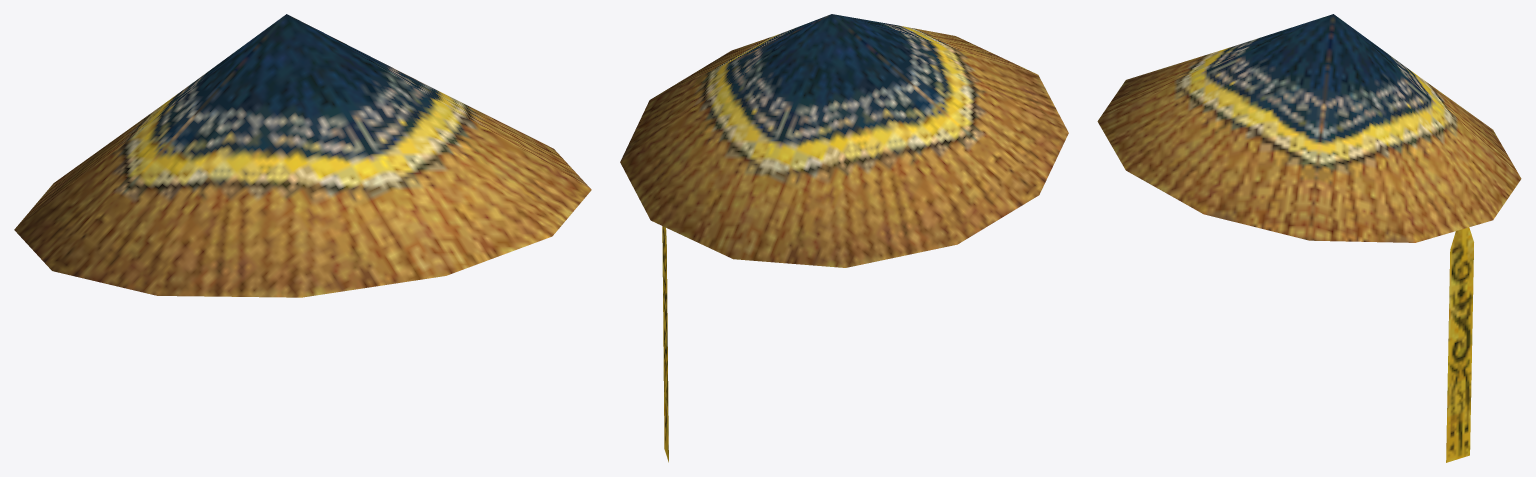
Rendered from clothes_02_ha.glb.
3 renders of one model, left to right at view 1: azimuth 30°, elevation 25°; view 2: azimuth 150°, elevation 25°; view 3: azimuth 270°, elevation 25°, orthographic. The views are drawn at different scales.
Parts seen in each view (by area): view 1: clothes_02_ha; view 2: clothes_02_ha; view 3: clothes_02_ha.
Boxes of the visible parts, left/top/right/bottom form: clothes_02_ha: left=14, top=14, right=591, bottom=297; clothes_02_ha: left=620, top=14, right=1068, bottom=462; clothes_02_ha: left=1097, top=14, right=1521, bottom=462.
Size of the model in its own units: 0.4842 by 0.4973 by 0.479.
Materials: 1 (1 with a texture image).
